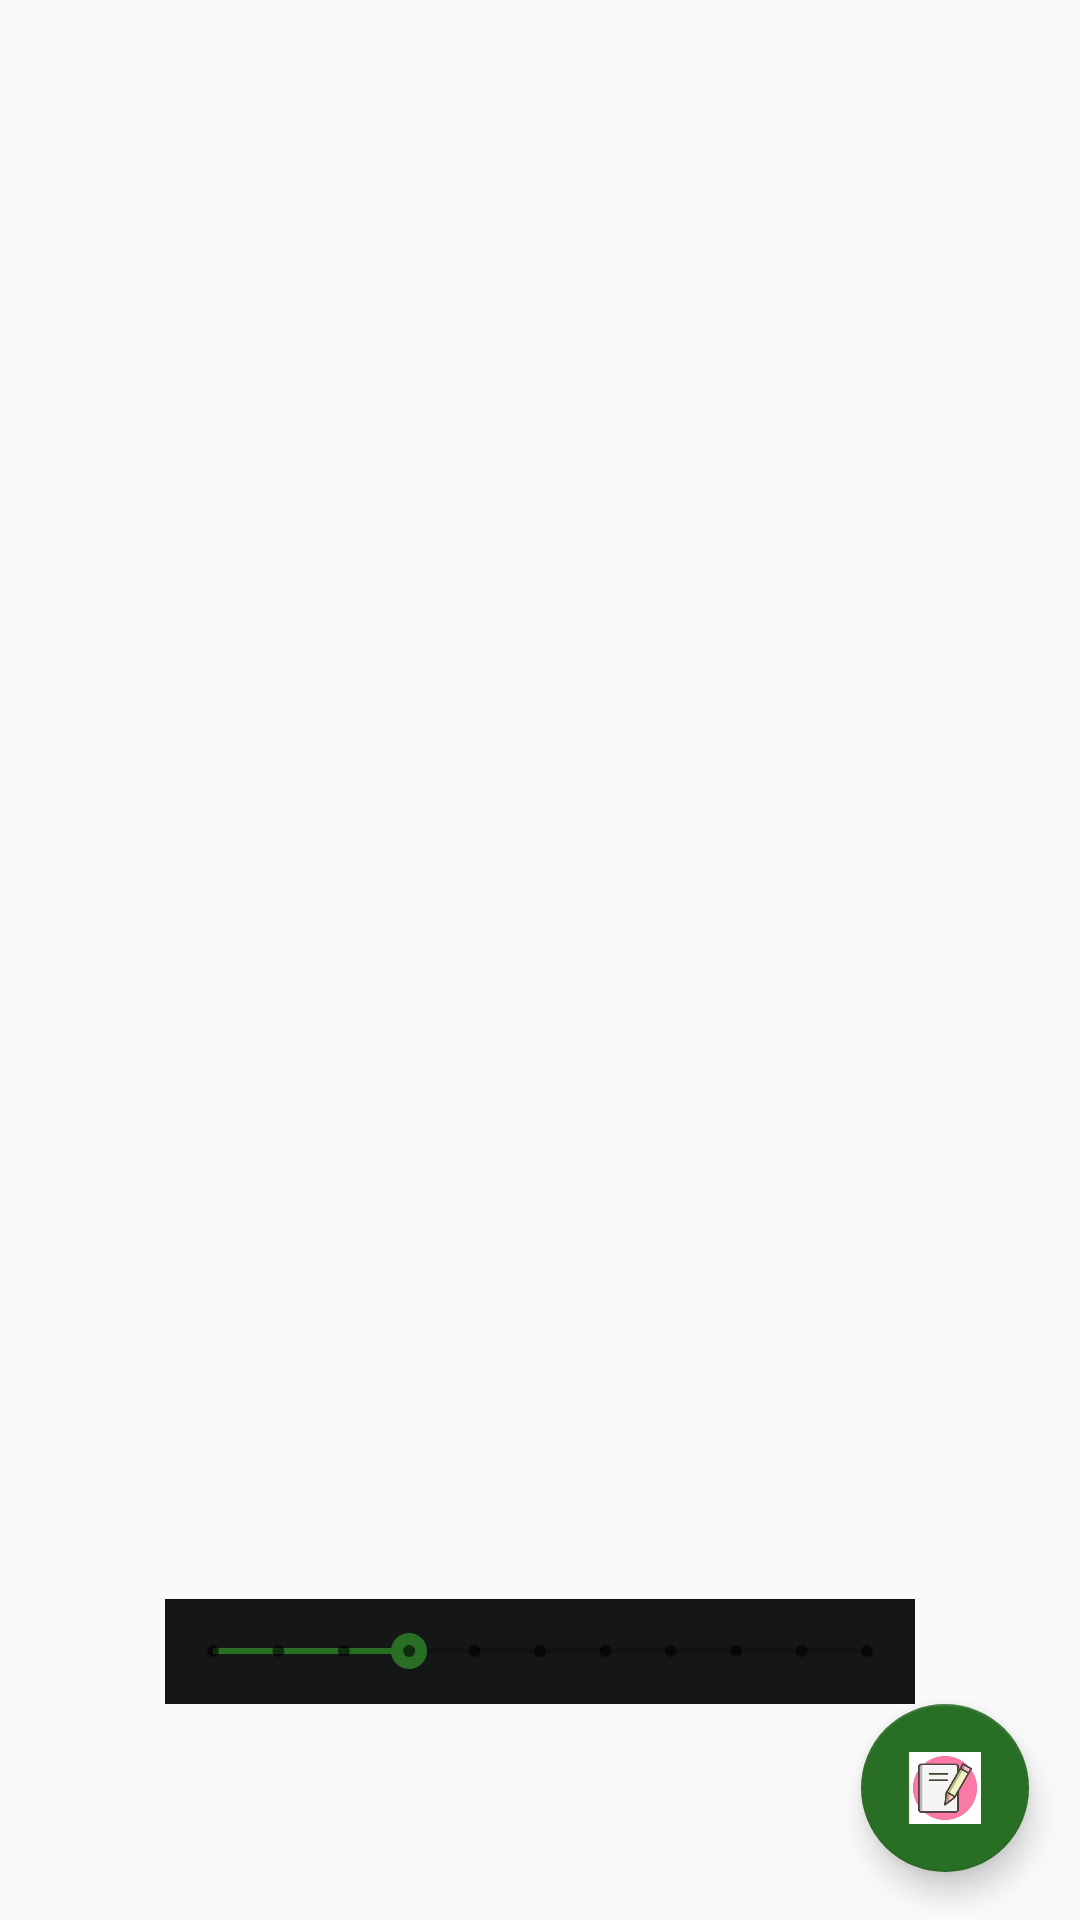

Named icons in this screenshot (1080*1920) and their centers, (x,y):
note: (945,1788)
